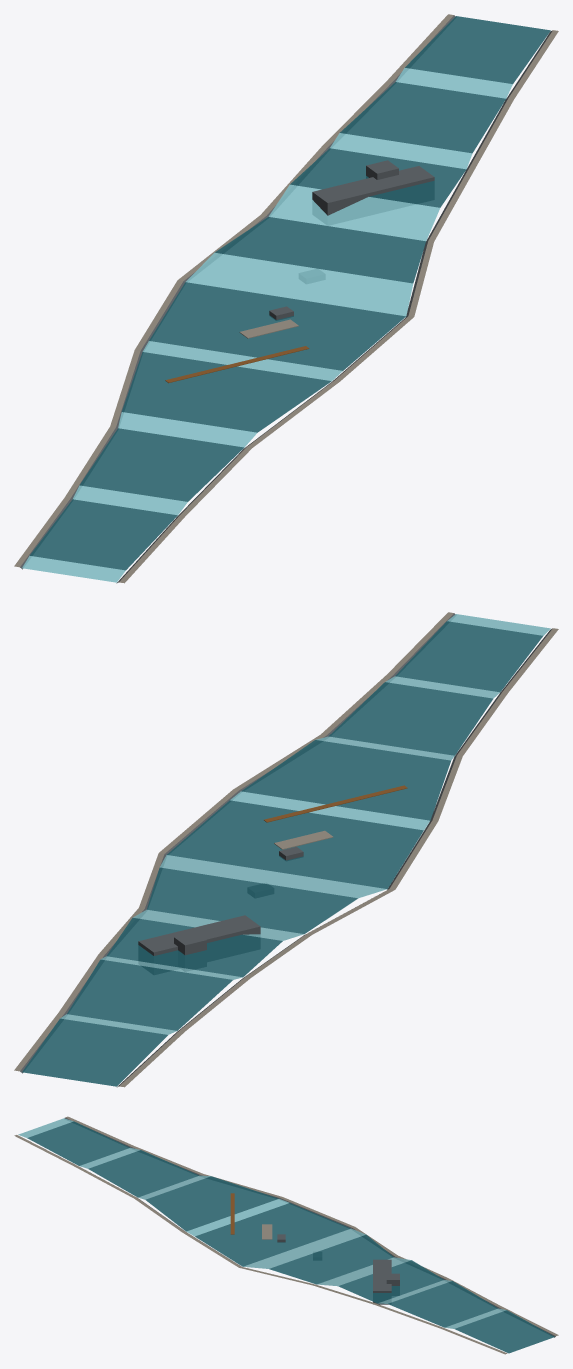
Rendered from water_thac_gougah_duc_trong.glb.
3 views of the same model, one above another, from view 1: azimuth 30°, elevation 25°; view 2: azimuth 210°, elevation 25°; view 3: azimuth 270°, elevation 25° (orthographic). The views are drawn at different scales.
Visible parts, largest first — view 1: water_terraces_water_thac_gougah_duc_trong, waterfall_curtain_water_thac_gougah_duc_trong, canyon_walkway_water_thac_gougah_duc_trong, gougah_horseshoe_basalt_cliff_wall, basalt_canyon_embankments_water_thac_gougah_duc_trong; view 2: water_terraces_water_thac_gougah_duc_trong, waterfall_curtain_water_thac_gougah_duc_trong, canyon_walkway_water_thac_gougah_duc_trong, basalt_canyon_embankments_water_thac_gougah_duc_trong, gougah_horseshoe_basalt_cliff_wall, gougah_da_nhim_suspension_footbridge, gougah_central_split_rock_pinnacle; view 3: water_terraces_water_thac_gougah_duc_trong, waterfall_curtain_water_thac_gougah_duc_trong, canyon_walkway_water_thac_gougah_duc_trong, gougah_horseshoe_basalt_cliff_wall, basalt_canyon_embankments_water_thac_gougah_duc_trong.
Part boxes in pixels (<box>): water_terraces_water_thac_gougah_duc_trong: <box>30,16,550,570</box>; waterfall_curtain_water_thac_gougah_duc_trong: <box>22,68,512,582</box>; canyon_walkway_water_thac_gougah_duc_trong: <box>14,14,558,583</box>; gougah_horseshoe_basalt_cliff_wall: <box>312,166,434,215</box>; basalt_canyon_embankments_water_thac_gougah_duc_trong: <box>20,15,552,583</box>; water_terraces_water_thac_gougah_duc_trong: <box>22,621,542,1086</box>; waterfall_curtain_water_thac_gougah_duc_trong: <box>60,614,550,1034</box>; canyon_walkway_water_thac_gougah_duc_trong: <box>14,612,558,1087</box>; basalt_canyon_embankments_water_thac_gougah_duc_trong: <box>20,613,552,1087</box>; gougah_horseshoe_basalt_cliff_wall: <box>138,915,260,955</box>; gougah_da_nhim_suspension_footbridge: <box>264,785,407,822</box>; gougah_central_split_rock_pinnacle: <box>174,932,206,955</box>; water_terraces_water_thac_gougah_duc_trong: <box>27,1121,554,1353</box>; waterfall_curtain_water_thac_gougah_duc_trong: <box>18,1118,506,1328</box>; canyon_walkway_water_thac_gougah_duc_trong: <box>14,1116,558,1354</box>; gougah_horseshoe_basalt_cliff_wall: <box>373,1259,391,1304</box>; basalt_canyon_embankments_water_thac_gougah_duc_trong: <box>28,1117,555,1337</box>.
Size of the model in its own units: 749 by 38.45 by 648.
